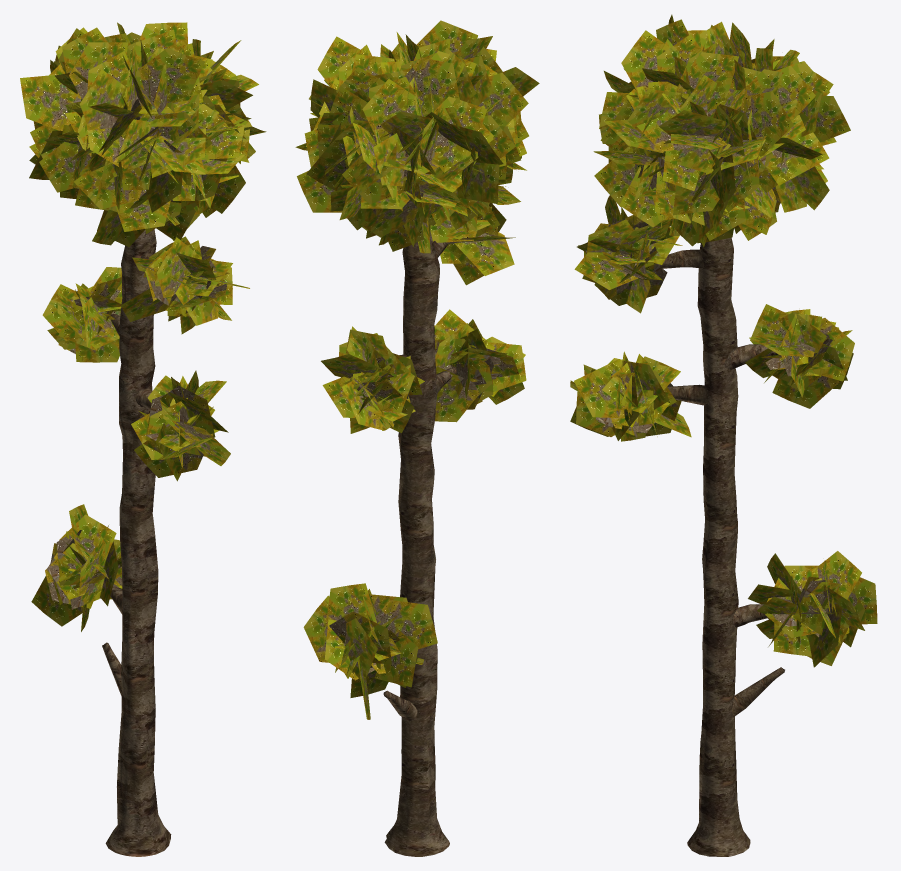
Rendered from SM_Yakushima_tree_001_c3111c.glb.
3 views of the same model, side by side, from view 1: azimuth 30°, elevation 25°; view 2: azimuth 150°, elevation 25°; view 3: azimuth 270°, elevation 25° (orthographic).
Size of the model in its own units: 4.38 by 16.5 by 5.84.
2 materials, 2 textured.
